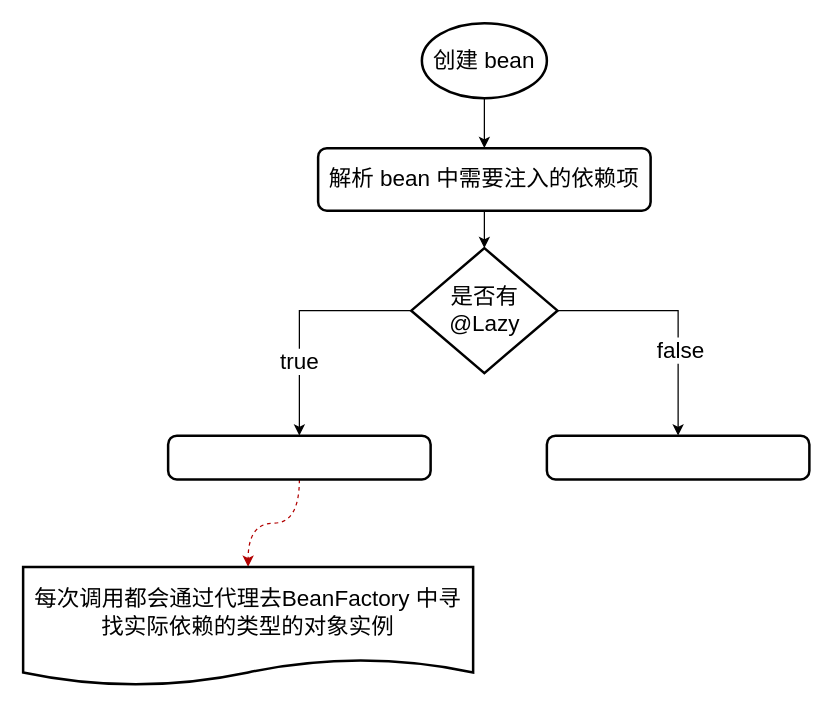
This 831x708 diagram has some shape labels left out. Each missing label, with the centre of its shape:
"创建一个代理对象实例" goes at pixel 298 457.
"创建依赖类型对象实例" goes at pixel 677 457.
